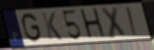5: (61, 9, 82, 41)
G: (21, 12, 43, 43)
H: (78, 7, 108, 41)
I: (125, 6, 140, 38)
K: (41, 11, 64, 41)
X: (100, 6, 128, 40)
